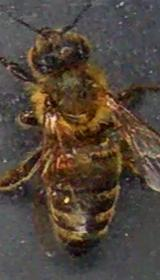varroa_mite: (56, 148, 84, 182)
